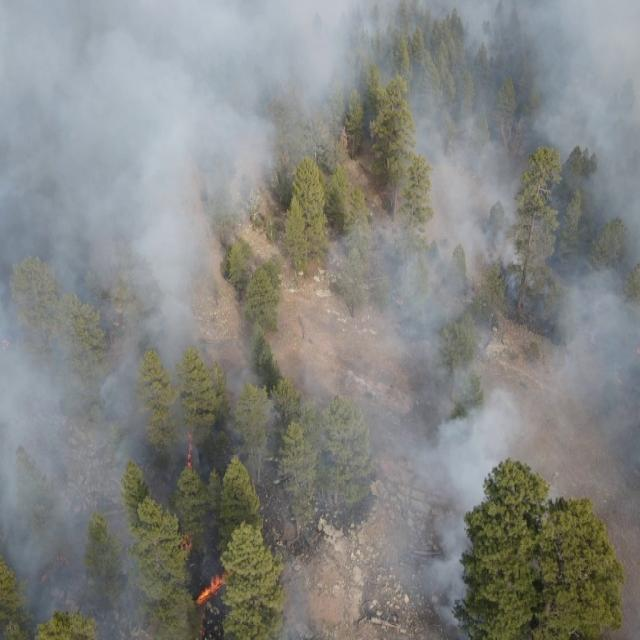fire: (191, 558, 240, 613), (182, 424, 199, 478), (174, 524, 196, 554), (34, 566, 52, 588), (634, 344, 640, 358), (590, 336, 596, 346), (618, 378, 624, 388)
smoke: (0, 140, 211, 640), (0, 0, 640, 138), (455, 139, 640, 502), (339, 137, 463, 640), (207, 346, 373, 640), (210, 139, 280, 231)
